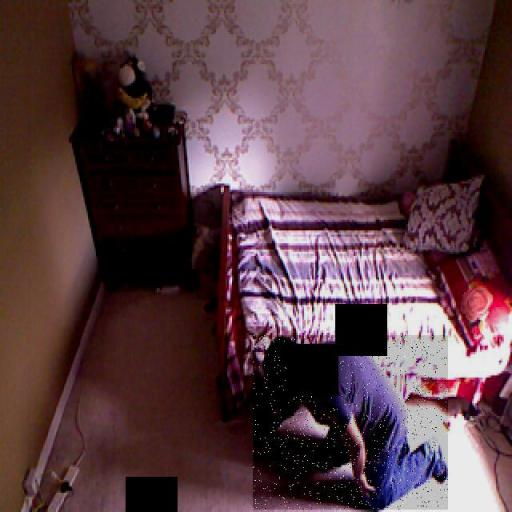Fall: (253, 335, 448, 510)
